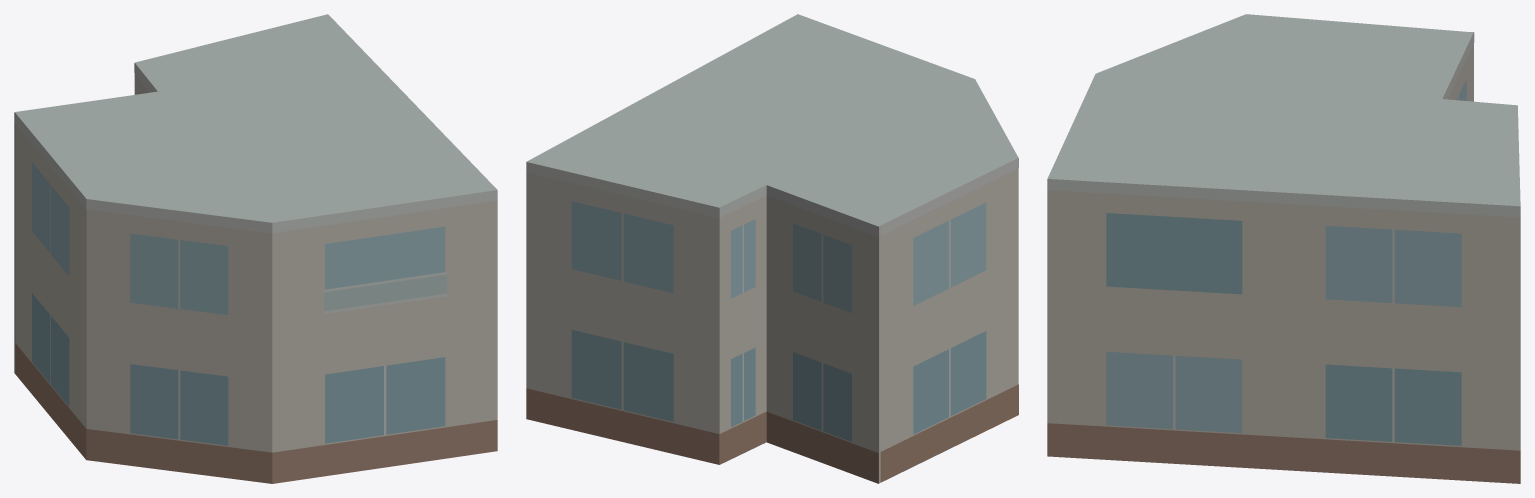
File: survey-upis-32762642.glb
The picture shows the model from 3 angles, left to right: view 1: azimuth 30°, elevation 25°; view 2: azimuth 150°, elevation 25°; view 3: azimuth 270°, elevation 25°; orthographic projection. The views are drawn at different scales.
Visible parts, largest first — view 1: survey-upis-32762642.tmp; view 2: survey-upis-32762642.tmp; view 3: survey-upis-32762642.tmp.
Boxes of the visible parts, <box> form: survey-upis-32762642.tmp: <box>14,14,497,483</box>; survey-upis-32762642.tmp: <box>526,14,1018,483</box>; survey-upis-32762642.tmp: <box>1047,14,1520,483</box>.
Size of the model in its own units: 9.08 by 6.1 by 9.44.
